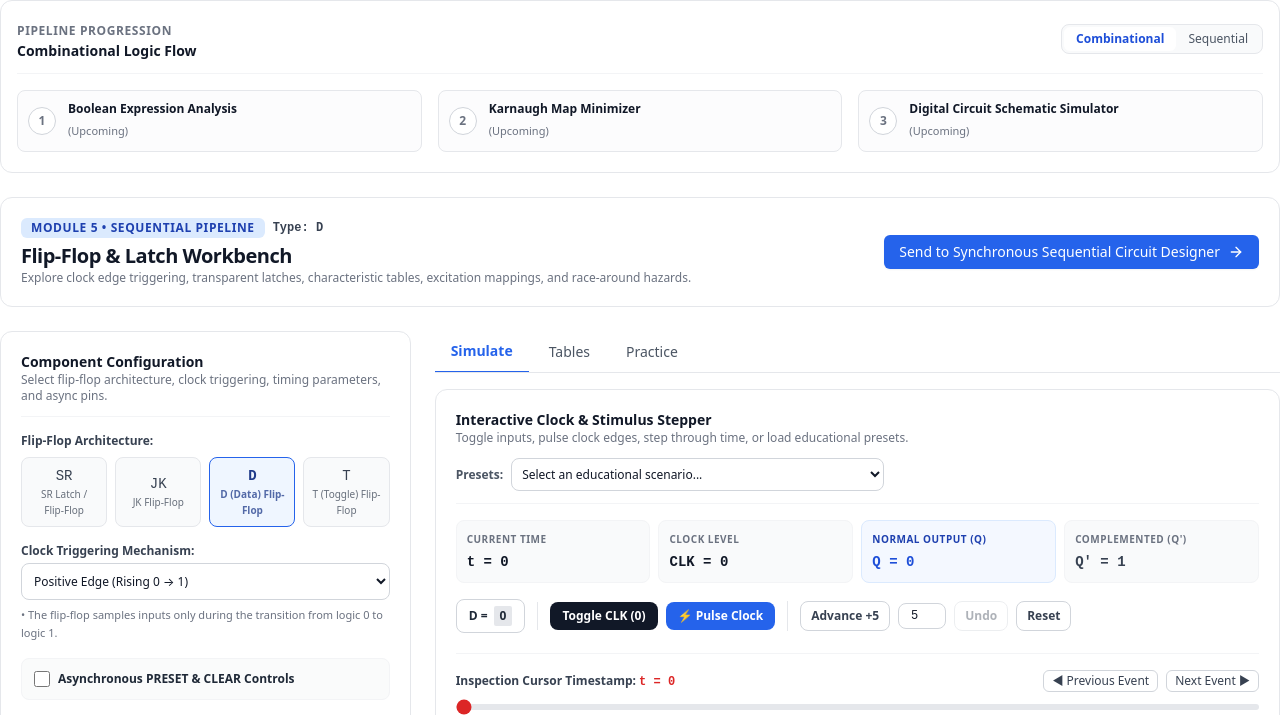
it: FlipFlopPage › switches between Simulate, Tables, and Practice tabs
The image size is (1280, 715).
Click Tables tab
Click the tab "Tables" at x=569, y=352, box [533,331,606,372]
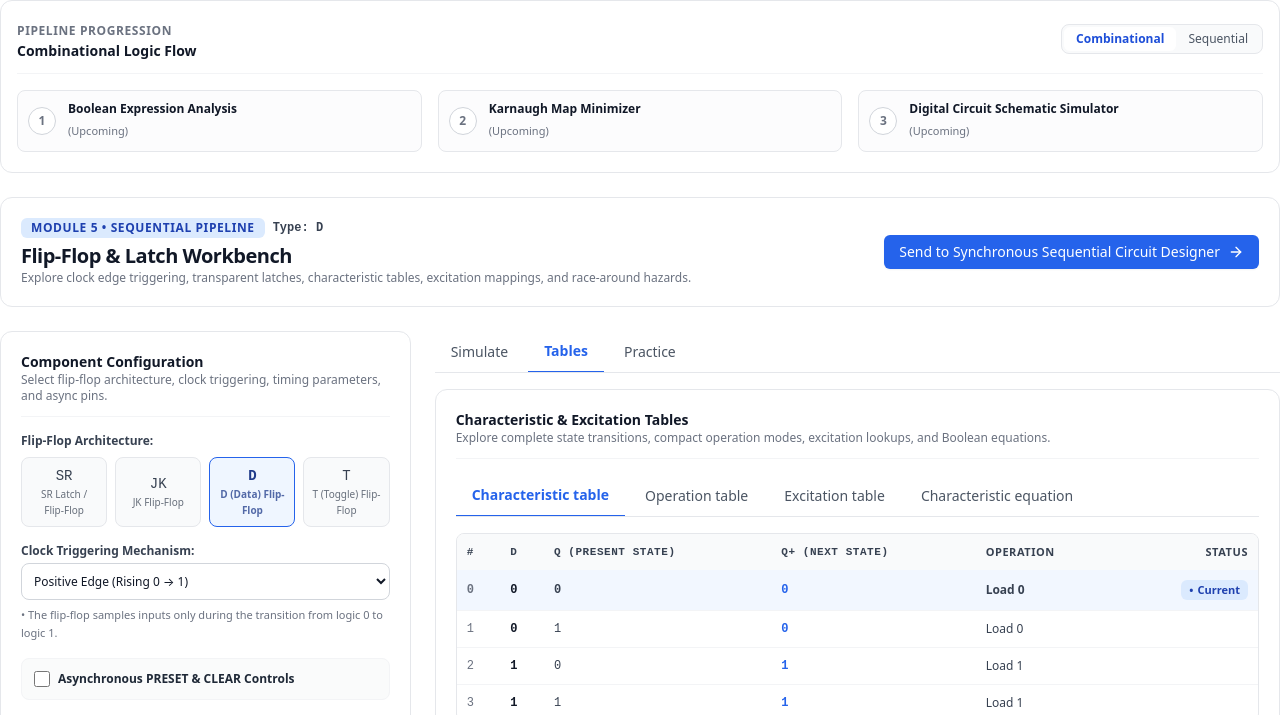
Check: the heading "Characteristic & Excitation Tables" is shown, box [456,410,689,429]
Click Practice tab
Click the tab "Practice" at x=650, y=352, box [608,331,692,372]
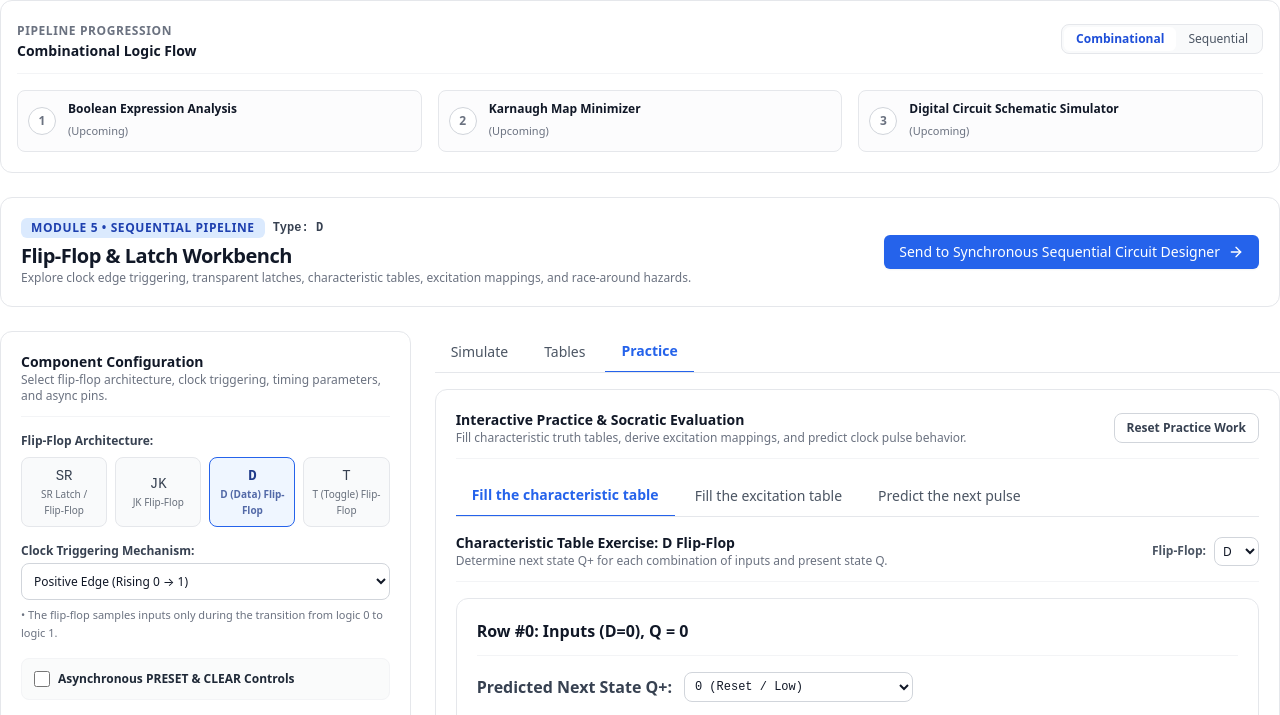
Check: the heading "Interactive Practice & Socratic Evaluation" is shown, box [456,410,744,429]
